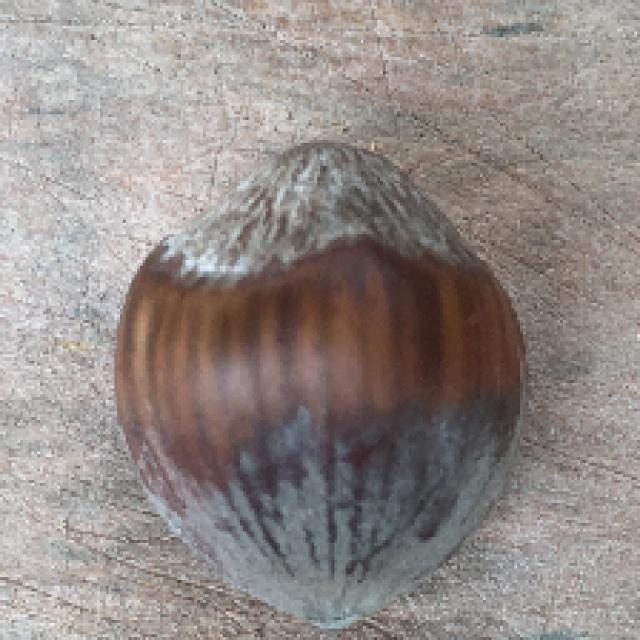damagedHazelnut: (114, 144, 536, 640)
